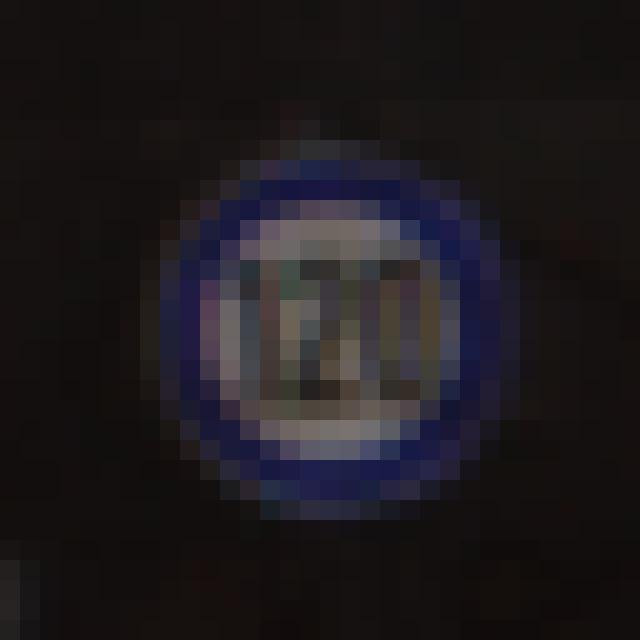SPEED LIMIT 120: (142, 160, 522, 518)
